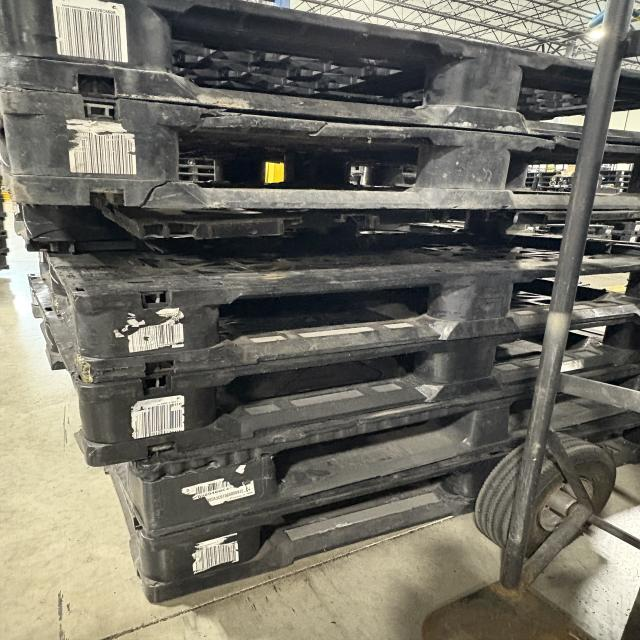igps: (121, 394, 640, 608), (120, 354, 640, 548), (64, 302, 640, 475), (0, 0, 640, 152), (0, 78, 640, 222), (42, 240, 640, 392)
